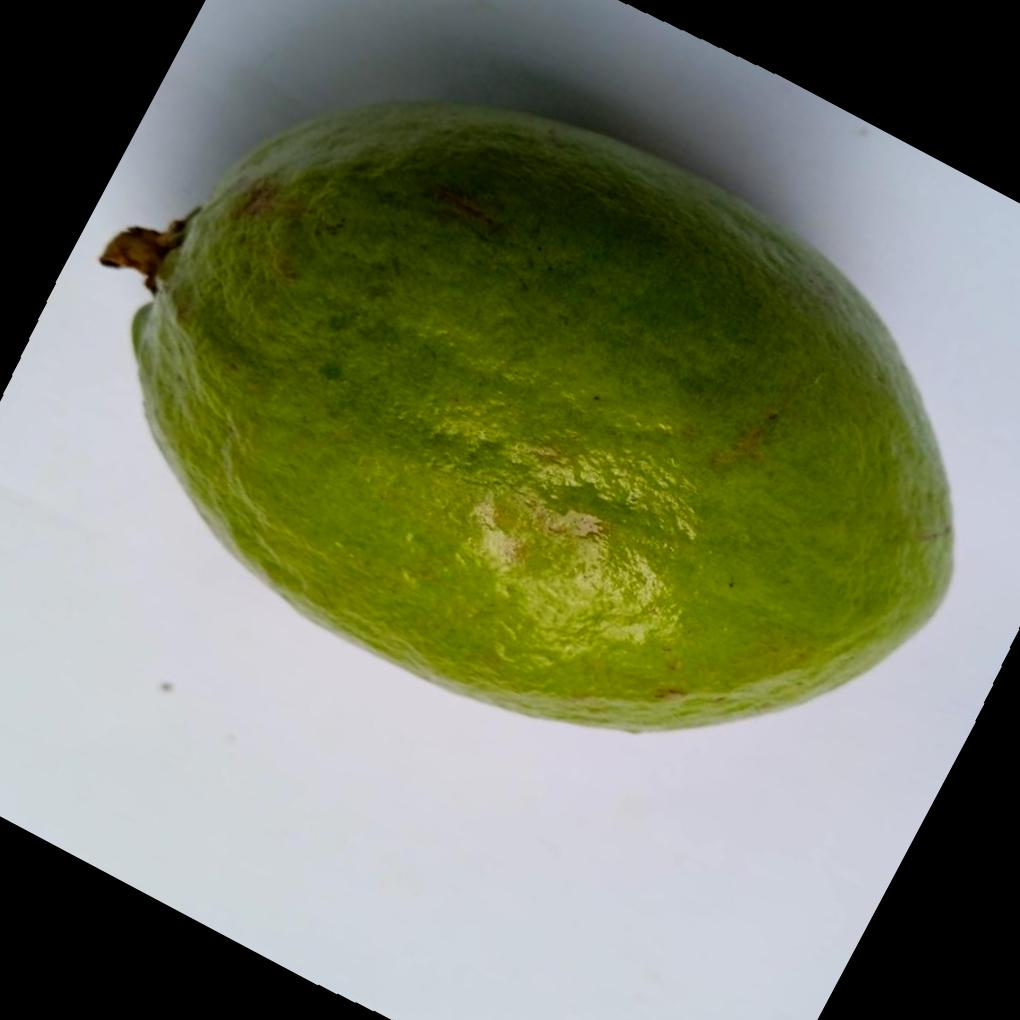FreshGuava: (105, 95, 954, 732)
